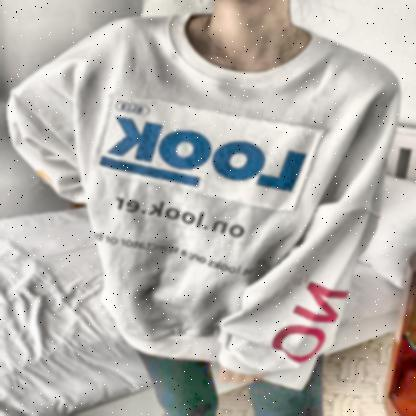sweater: (6, 10, 405, 375)
trousers: (134, 347, 325, 416)
